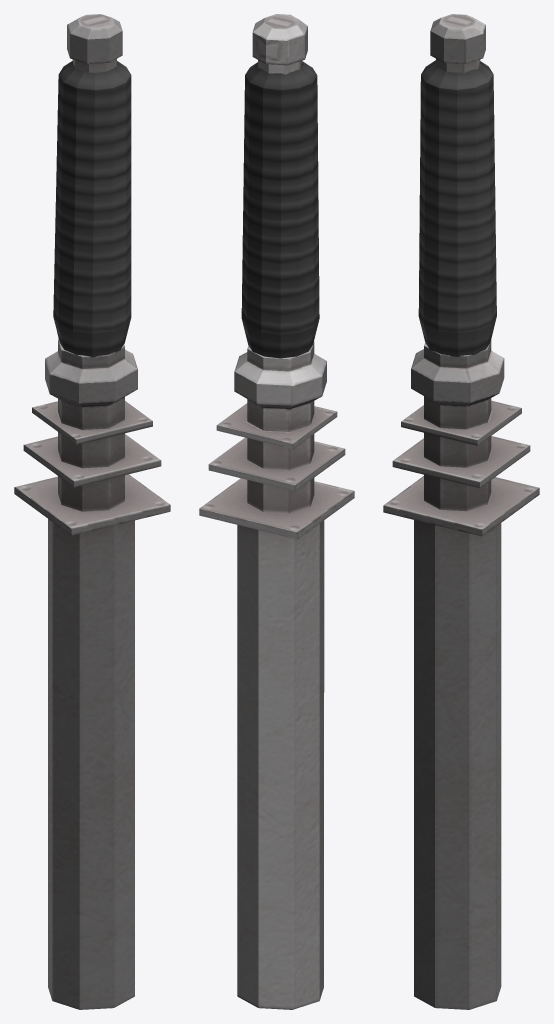
The model's file is substation_ht_1005_07.obj.
The picture shows the model from 3 angles, left to right: view 1: azimuth 30°, elevation 25°; view 2: azimuth 150°, elevation 25°; view 3: azimuth 330°, elevation 25°; orthographic projection.
Visible parts, largest first — view 1: substation_ht_1005_07; view 2: substation_ht_1005_07; view 3: substation_ht_1005_07.
Boxes of the visible parts, x1,y1,x2,y2 form: substation_ht_1005_07: [14, 14, 170, 1009]; substation_ht_1005_07: [199, 14, 354, 1009]; substation_ht_1005_07: [383, 14, 539, 1009].
Bounding box in the file's own units: 4.26 × 39.92 × 4.26.
2 materials, 2 textured.
